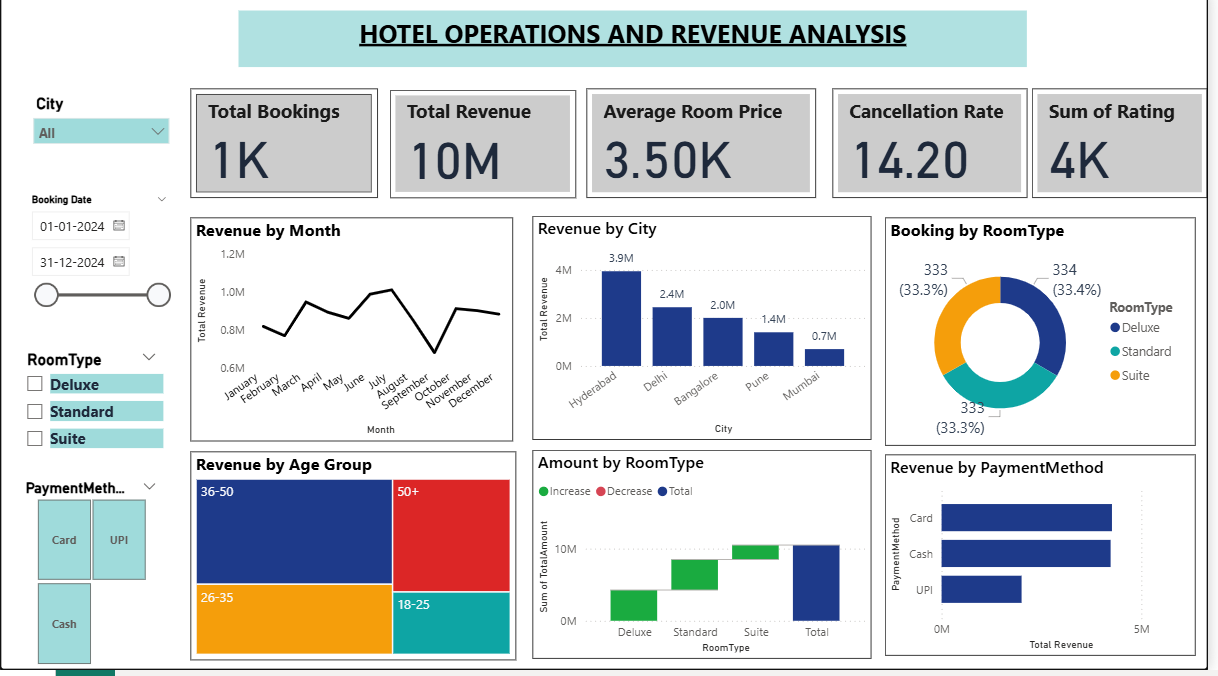

The dashboard page shown, as its layout file describes it:
{"tool":"powerbi","page":{"name":"Page 1","canvas":[1280,720],"ordinal":0},"visuals":[{"type":"cardVisual","fields":{"Data":["hoteldata.Total Bookings"]},"box":[202,103.4,198.8,116.1],"z":0},{"type":"cardVisual","fields":{"Data":["hoteldata.Total Revenue"]},"box":[413.6,105,197.2,114.5],"z":1000},{"type":"cardVisual","fields":{"Data":["hoteldata.Average Room Price"]},"box":[621.9,103.4,243.4,116.1],"z":2000},{"type":"cardVisual","fields":{"Data":["hoteldata.Cancellation Rate"]},"box":[882.8,103.4,206.8,116.1],"z":3000},{"type":"clusteredColumnChart","title":" Revenue by City","fields":{"Category":["hoteldata.City"],"Y":["hoteldata.Total Revenue"]},"box":[564.7,238.6,359.5,237],"z":4000},{"type":"donutChart","title":" Booking by RoomType","fields":{"Category":["hoteldata.RoomType"],"Y":["CountNonNull(hoteldata.BookingID)"]},"box":[938.5,240.2,329.3,241.8],"z":5000},{"type":"clusteredBarChart","title":"Revenue by PaymentMethod","fields":{"Category":["hoteldata.PaymentMethod"],"Y":["hoteldata.Total Revenue"]},"box":[938.5,491.5,329.3,213.1],"z":6000},{"type":"slicer","fields":{"Values":["hoteldata.RoomType"]},"box":[15.9,375.4,162.2,124.1],"z":7000},{"type":"slicer","fields":{"Values":["hoteldata.Booking Date"]},"box":[20.7,210,168.6,147.9],"z":8000},{"type":"slicer","fields":{"Values":["hoteldata.City"]},"box":[25.7,104.2,164.1,79.9],"z":9000},{"type":"slicer","fields":{"Values":["hoteldata.PaymentMethod"]},"box":[14.3,512.2,163.8,208.4],"z":10000},{"type":"treemap","title":" Revenue by Age Group","fields":{"Group":["hoteldata.Age Group"],"Values":["hoteldata.Total Revenue"]},"box":[202,488.3,345.2,221.1],"z":11000},{"type":"waterfallChart","title":"Amount by RoomType","fields":{"Category":["hoteldata.RoomType"],"Y":["Sum(hoteldata.TotalAmount)"]},"box":[564.7,486.7,359.5,221.1],"z":12000},{"type":"textbox","box":[252.6,20,836.2,59.9],"z":13000},{"type":"lineChart","title":"Revenue by Month","fields":{"Y":["hoteldata.Total Revenue"],"Category":["hoteldata.Booking Date.Variation.Date Hierarchy.Month"]},"box":[202,240.2,342,237],"z":14000},{"type":"cardVisual","fields":{"Data":["Sum(hoteldata.Rating)"]},"box":[1094.3,103.4,186.1,116.1],"z":15000}]}

Visuals, with their boxes in screenshot pixels (x1, y1, x2, y2), scaled from the page's 1280x720 canvas onto the 1218x676 screenshot:
cardVisual - hoteldata.Total Bookings: (left=192, top=97, right=381, bottom=206)
cardVisual - hoteldata.Total Revenue: (left=394, top=99, right=581, bottom=206)
cardVisual - hoteldata.Average Room Price: (left=592, top=97, right=823, bottom=206)
cardVisual - hoteldata.Cancellation Rate: (left=840, top=97, right=1037, bottom=206)
" Revenue by City" clusteredColumnChart: (left=537, top=224, right=879, bottom=447)
" Booking by RoomType" donutChart: (left=893, top=226, right=1206, bottom=453)
"Revenue by PaymentMethod" clusteredBarChart: (left=893, top=461, right=1206, bottom=662)
slicer - hoteldata.RoomType: (left=15, top=352, right=169, bottom=469)
slicer - hoteldata.Booking Date: (left=20, top=197, right=180, bottom=336)
slicer - hoteldata.City: (left=24, top=98, right=181, bottom=173)
slicer - hoteldata.PaymentMethod: (left=14, top=481, right=169, bottom=675)
" Revenue by Age Group" treemap: (left=192, top=458, right=521, bottom=666)
"Amount by RoomType" waterfallChart: (left=537, top=457, right=879, bottom=665)
textbox: (left=240, top=19, right=1036, bottom=75)
"Revenue by Month" lineChart: (left=192, top=226, right=518, bottom=448)
cardVisual - Sum(hoteldata.Rating): (left=1041, top=97, right=1217, bottom=206)
